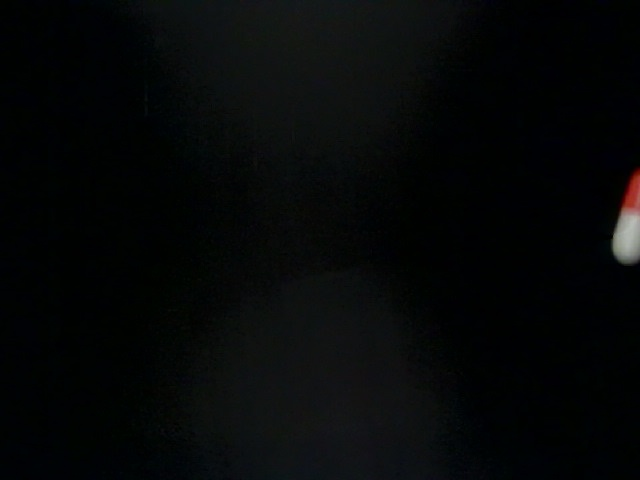YHLJ: (238, 331, 543, 424)
